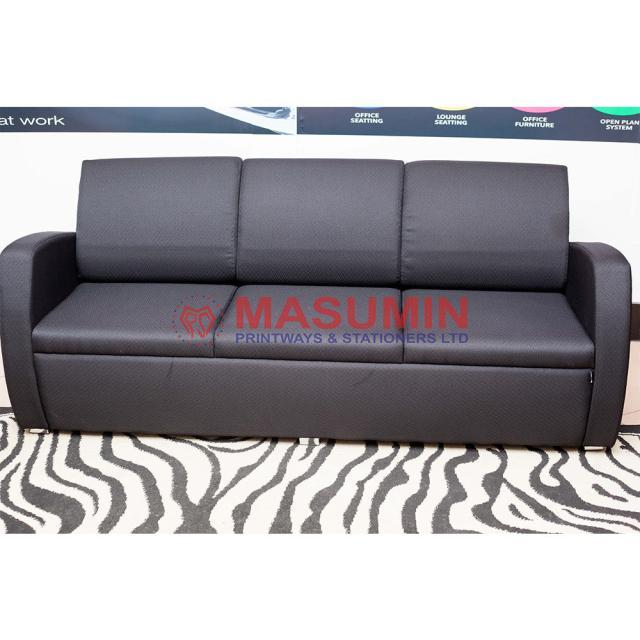sofa: (0, 155, 633, 450)
